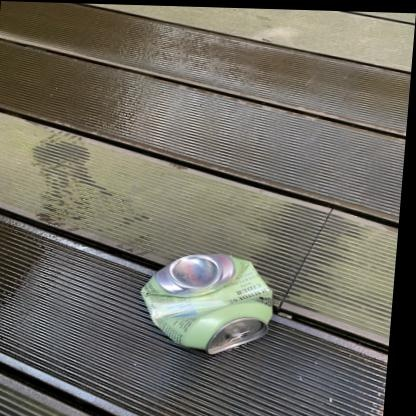trash: (141, 255, 271, 353)
